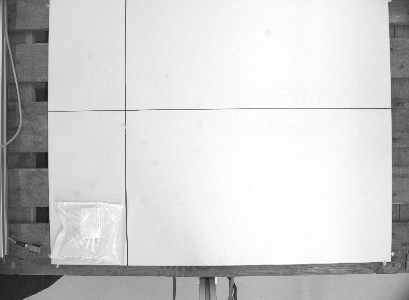t3: (48, 196, 128, 268)
